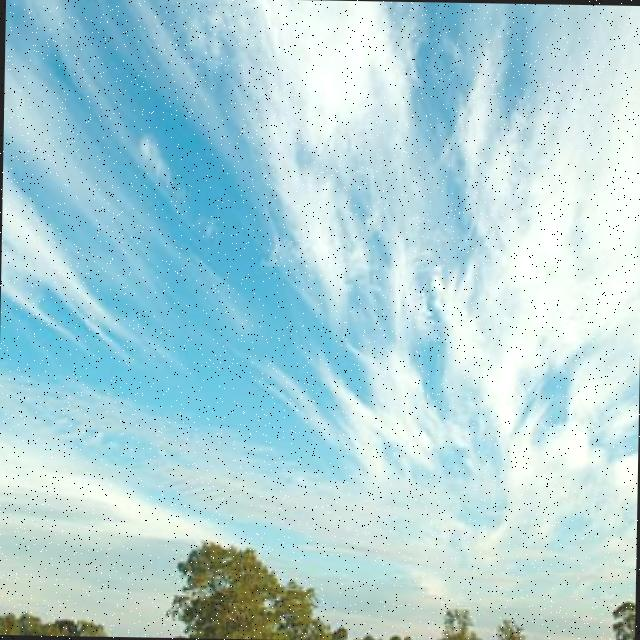Ci: (1, 1, 640, 489)
